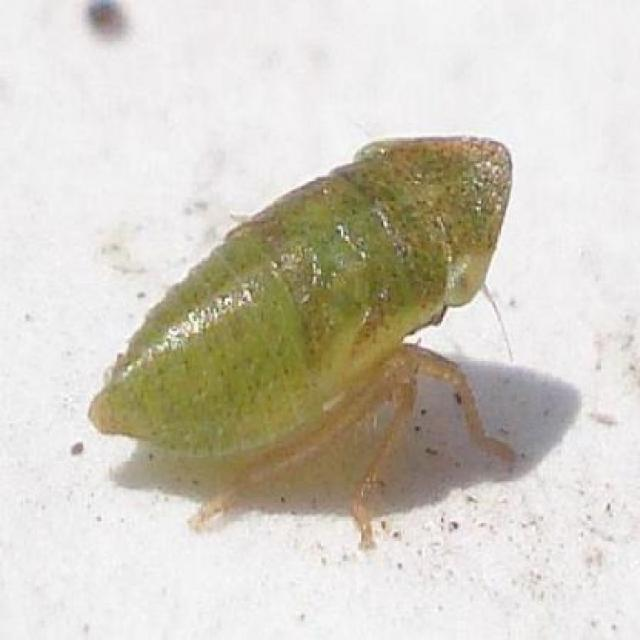green-leafhopper: (92, 132, 514, 540)
